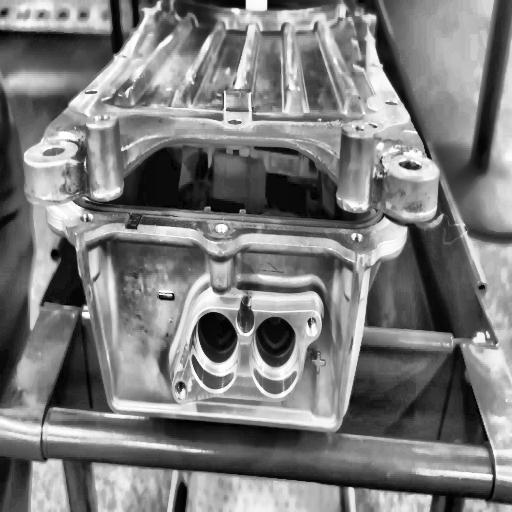bms_unit: (22, 0, 441, 435)
